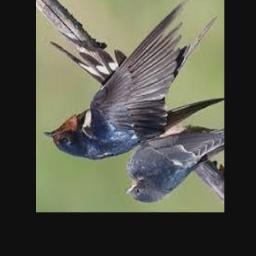Swallow: (43, 1, 224, 160), (127, 131, 224, 204)
